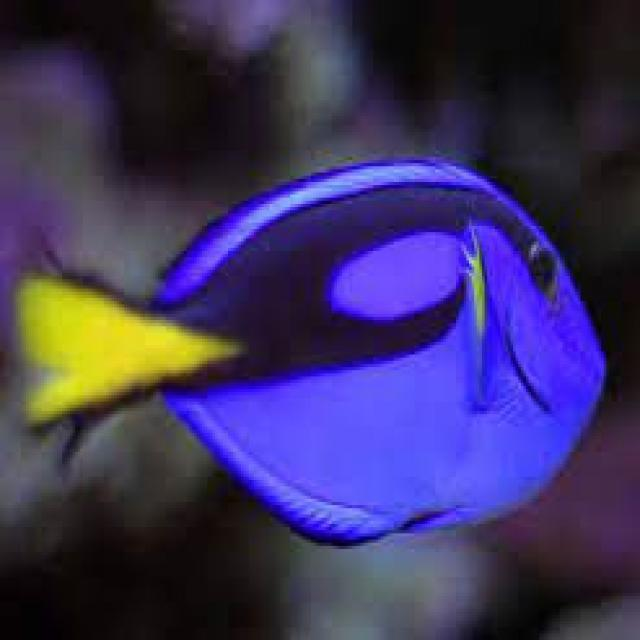TangFish: (22, 152, 606, 549)
